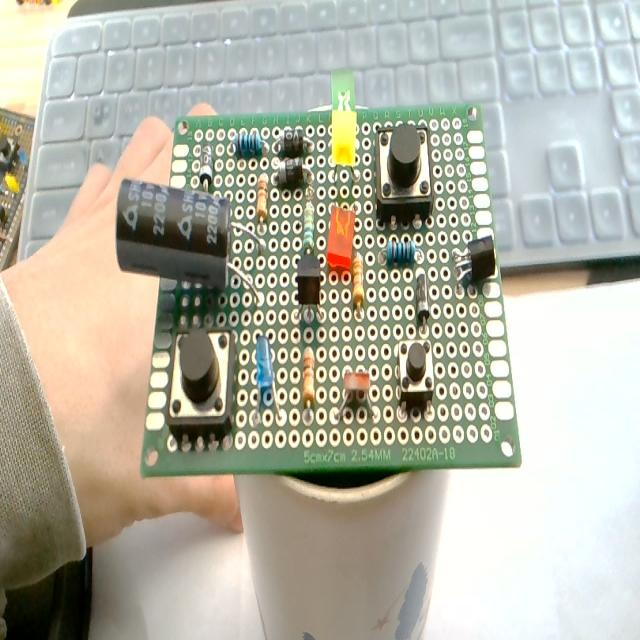Electrolytic capacitor: (113, 175, 265, 308)
cds: (335, 367, 379, 427)
diode: (273, 156, 317, 192), (415, 266, 433, 331), (275, 127, 313, 156)
led: (247, 332, 289, 425), (328, 110, 362, 190), (328, 192, 362, 269)
resistor: (374, 235, 422, 265), (300, 344, 316, 424), (255, 171, 273, 230), (350, 255, 364, 317), (232, 124, 258, 154), (301, 199, 313, 254)
switch: (163, 320, 241, 444), (371, 117, 436, 230), (394, 336, 440, 412)
transistor: (288, 253, 329, 334), (450, 230, 497, 294)
